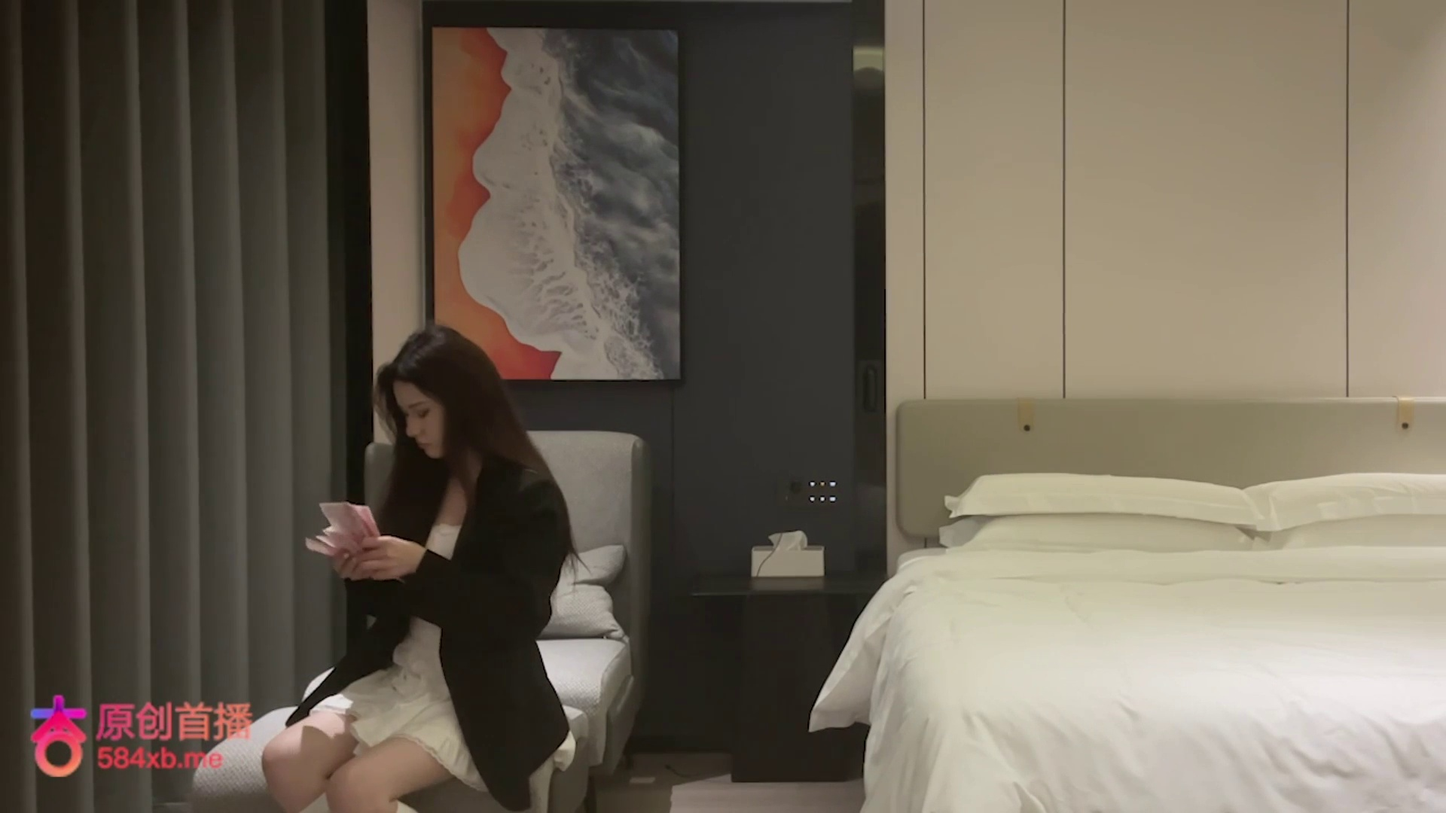sit: (262, 323, 575, 810)
